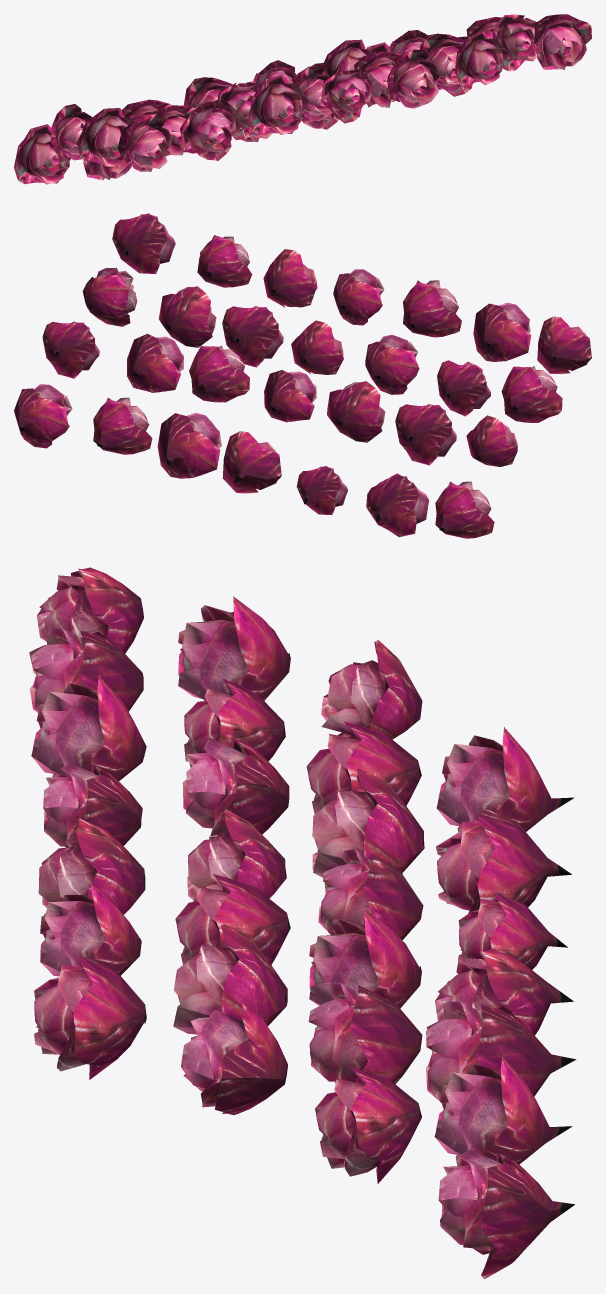
Rendered from nt_hydro_plant_red_LOD0.obj.
3 views of the same model, one above another, from view 1: azimuth 30°, elevation 25°; view 2: azimuth 150°, elevation 25°; view 3: azimuth 270°, elevation 25° (orthographic). The views are drawn at different scales.
Parts seen in each view (by area): view 1: mtl_hydro_plant_red; view 2: mtl_hydro_plant_red; view 3: mtl_hydro_plant_red.
Boxes of the visible parts, <box> form: mtl_hydro_plant_red: <box>14,14,591,184</box>; mtl_hydro_plant_red: <box>14,213,591,538</box>; mtl_hydro_plant_red: <box>29,567,576,1279</box>.
Bounding box in the file's own units: 288 × 91.8 × 143.
